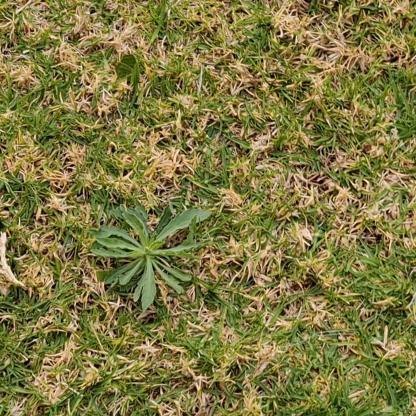Weeds: (88, 202, 214, 311)
